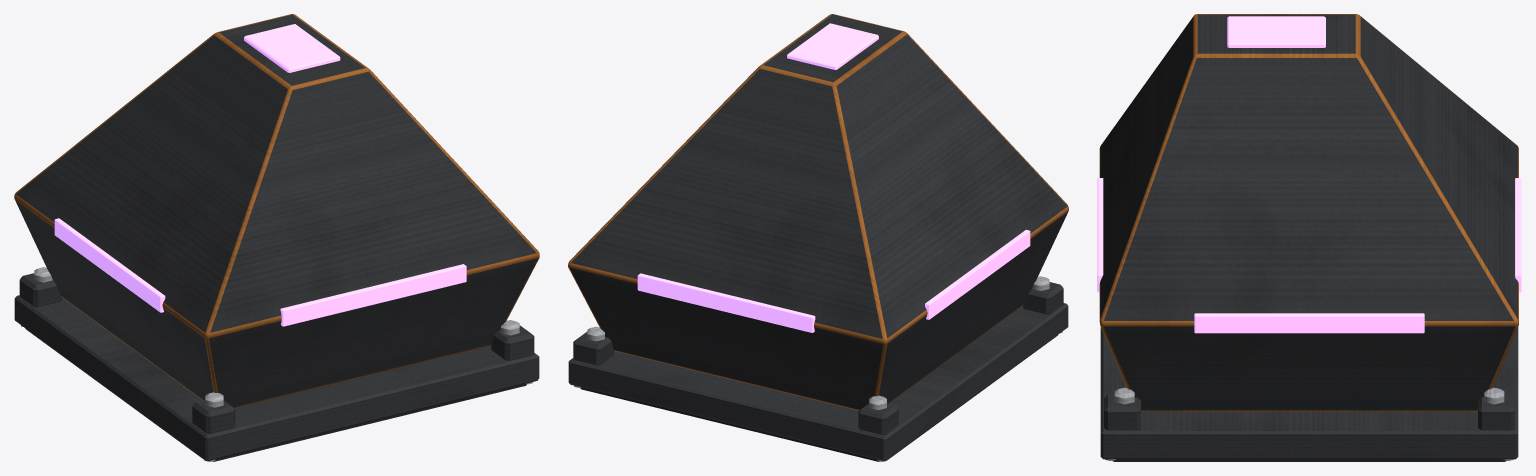
The model's file is R4X_Stealth.glb.
3 views of the same model, side by side, from view 1: azimuth 30°, elevation 25°; view 2: azimuth 150°, elevation 25°; view 3: azimuth 270°, elevation 25° (orthographic). The views are drawn at different scales.
Visible parts, largest first — view 1: R4X_Stealth_Body; view 2: R4X_Stealth_Body; view 3: R4X_Stealth_Body.
Boxes of the visible parts, left/top/right/bottom form: R4X_Stealth_Body: left=14, top=14, right=539, bottom=461; R4X_Stealth_Body: left=568, top=14, right=1068, bottom=461; R4X_Stealth_Body: left=1097, top=14, right=1521, bottom=461.
Bounding box in the file's own units: 0.516 × 0.466 × 0.516.
Materials: 5 (4 with a texture image).
